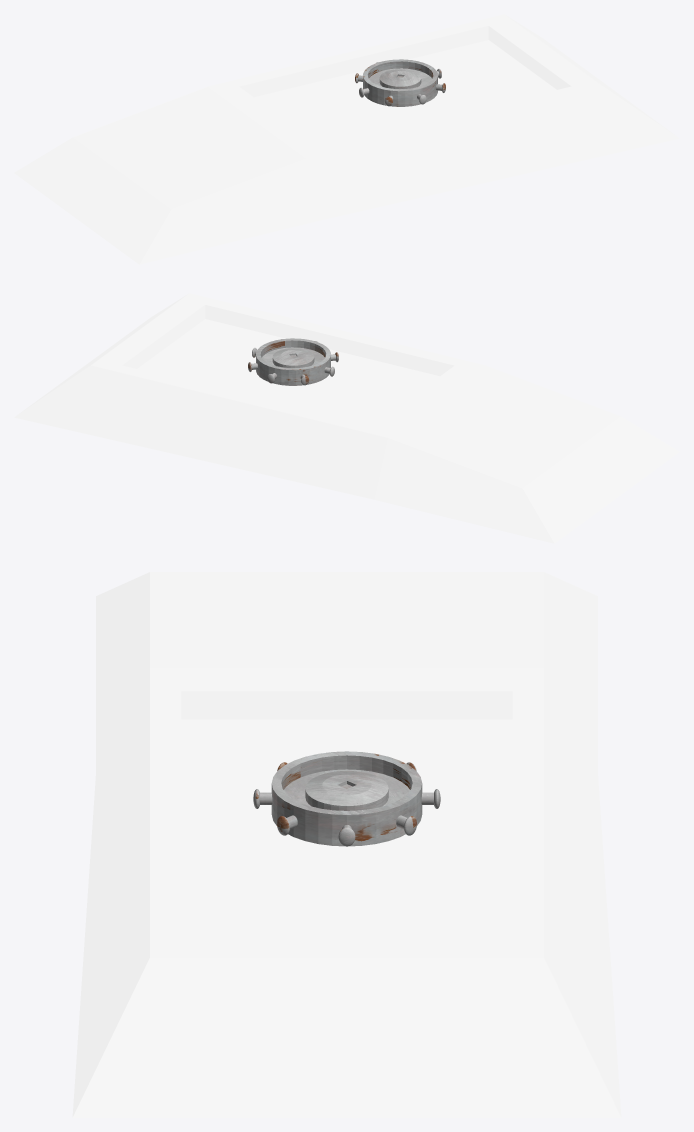
File: bunkersnow.glb
3 views of the same model, one above another, from view 1: azimuth 30°, elevation 25°; view 2: azimuth 150°, elevation 25°; view 3: azimuth 270°, elevation 25° (orthographic). The views are drawn at different scales.
Visible parts, largest first — view 1: Bunker, Wheel; view 2: Bunker, Wheel; view 3: Bunker, Wheel.
Part boxes in pixels (x1=…): Bunker: x1=14, y1=14, x2=679, y2=264; Wheel: x1=355, y1=59, x2=445, y2=106; Bunker: x1=14, y1=293, x2=679, y2=543; Wheel: x1=248, y1=338, x2=338, y2=385; Bunker: x1=72, y1=572, x2=621, y2=1117; Wheel: x1=253, y1=751, x2=440, y2=846.
Bounding box in the file's own units: 6.26 × 0.722 × 2.78.
Materials: 2 (1 with a texture image).
